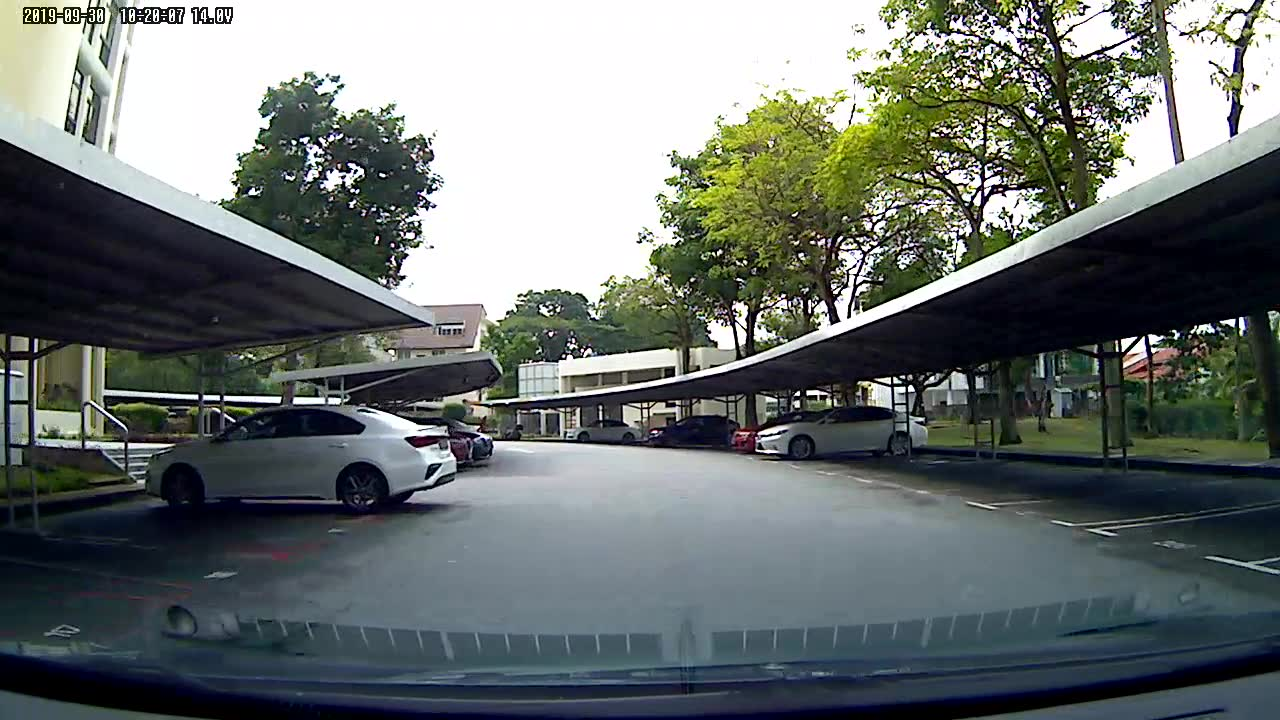car: (138, 400, 459, 514), (757, 404, 931, 468), (643, 413, 742, 451), (557, 417, 647, 446)
